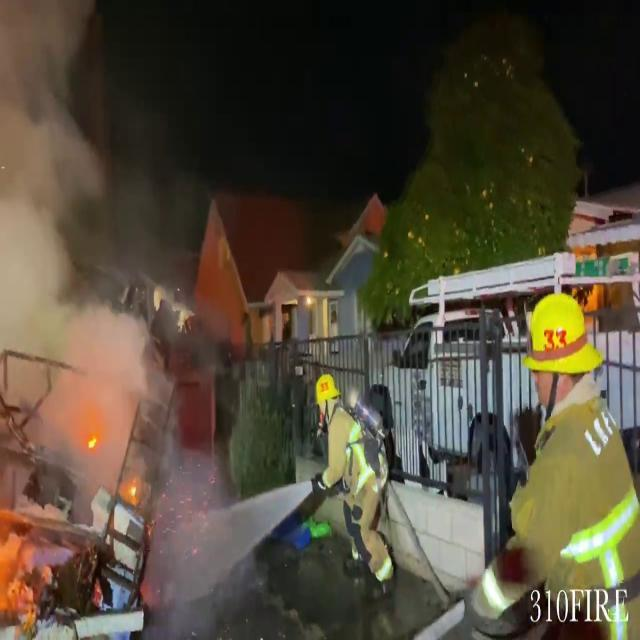Smoke: (0, 0, 158, 455)
